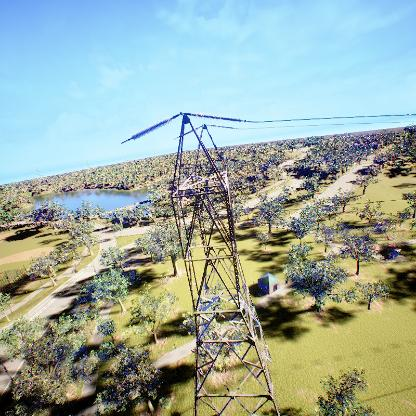tower: (120, 111, 282, 416)
